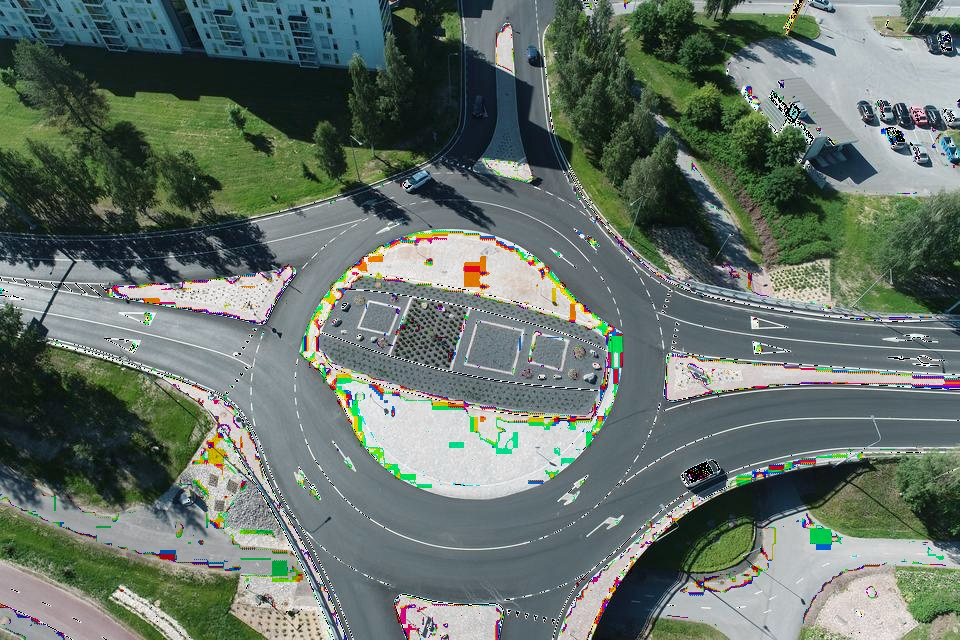roundabout: (221, 140, 683, 640)
